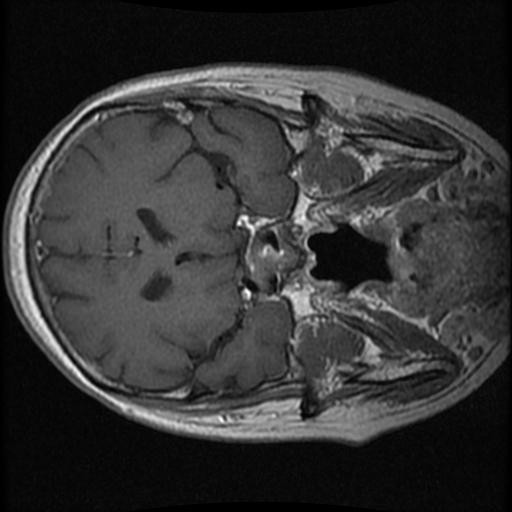pituitary tumour: (243, 218, 304, 299)
